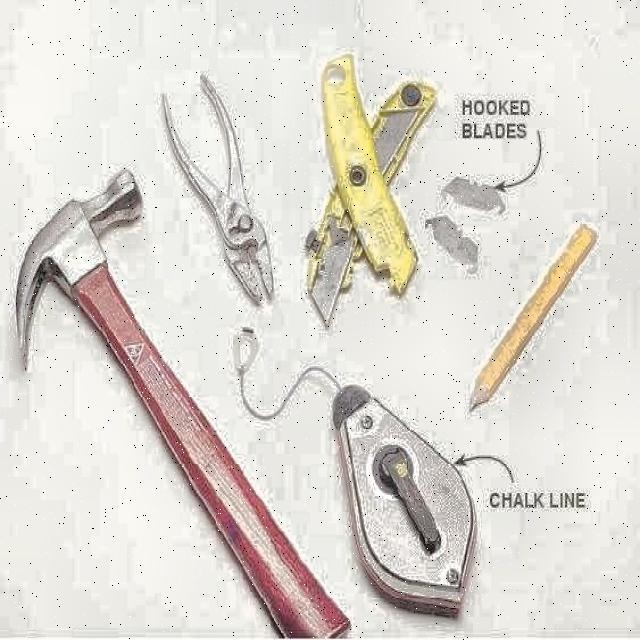hammer: (13, 168, 351, 640)
